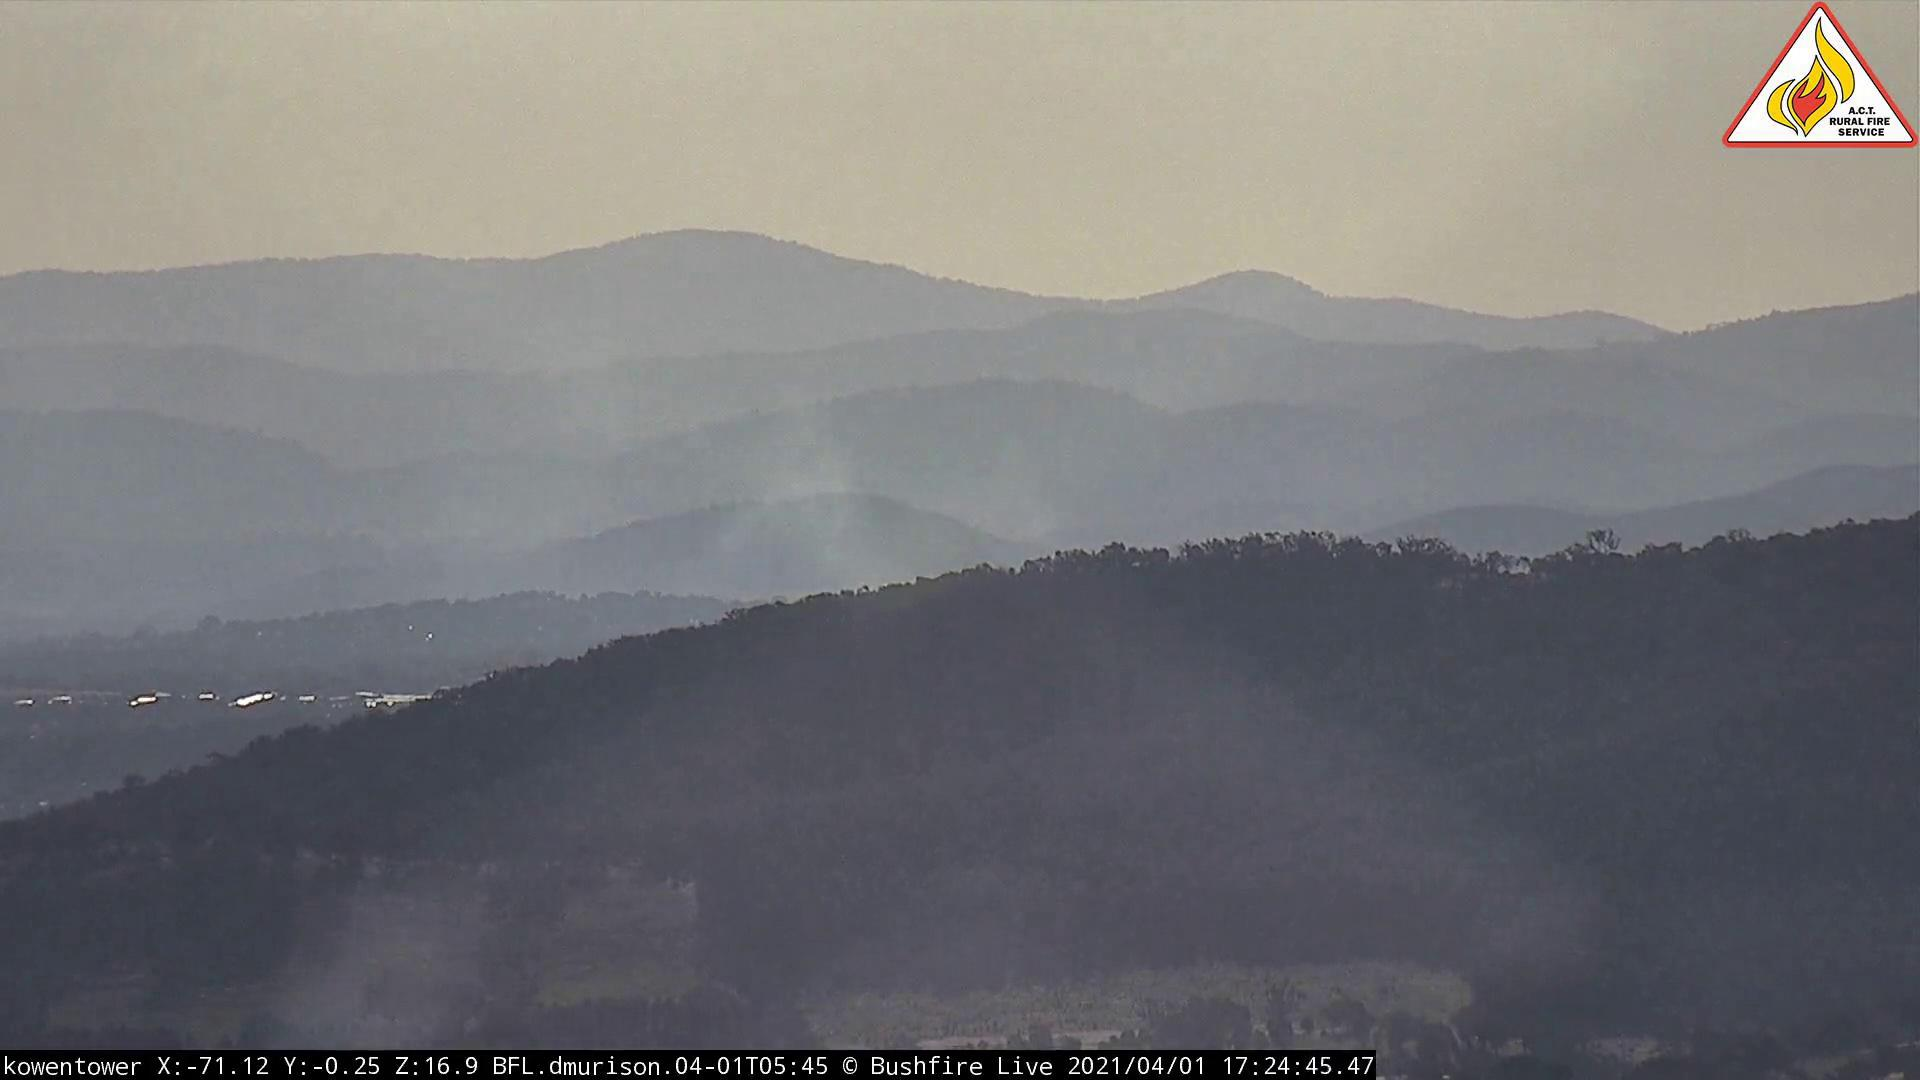Smoke: (599, 355, 1052, 669)
